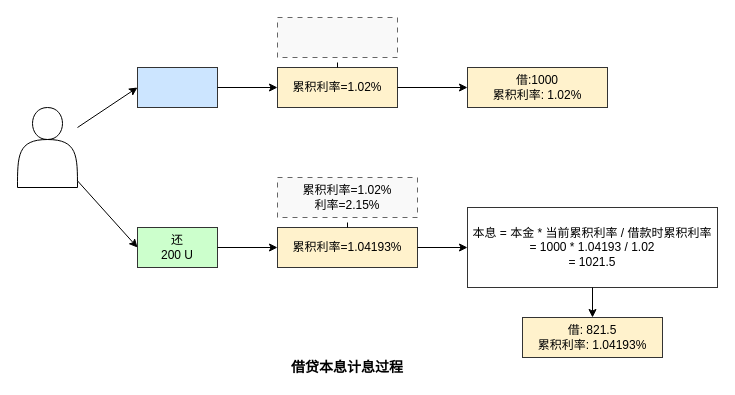
Image size: 735x395. Some labels were removed from this diagram. The shapes that lost their labels are listed below. From the top down, each one's box as (x1, y1, x2, y2) in pixels, then its label:
(276, 16, 398, 58): 累积利率=1% 利率=2%
(136, 66, 218, 108): 借 1000 U
(16, 106, 78, 188): 张三
